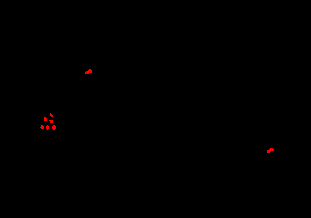Target: (85, 69, 92, 74), (267, 148, 274, 153), (52, 125, 56, 130), (40, 125, 44, 129), (46, 125, 49, 130), (50, 113, 53, 117), (44, 117, 47, 121), (49, 120, 53, 123)
